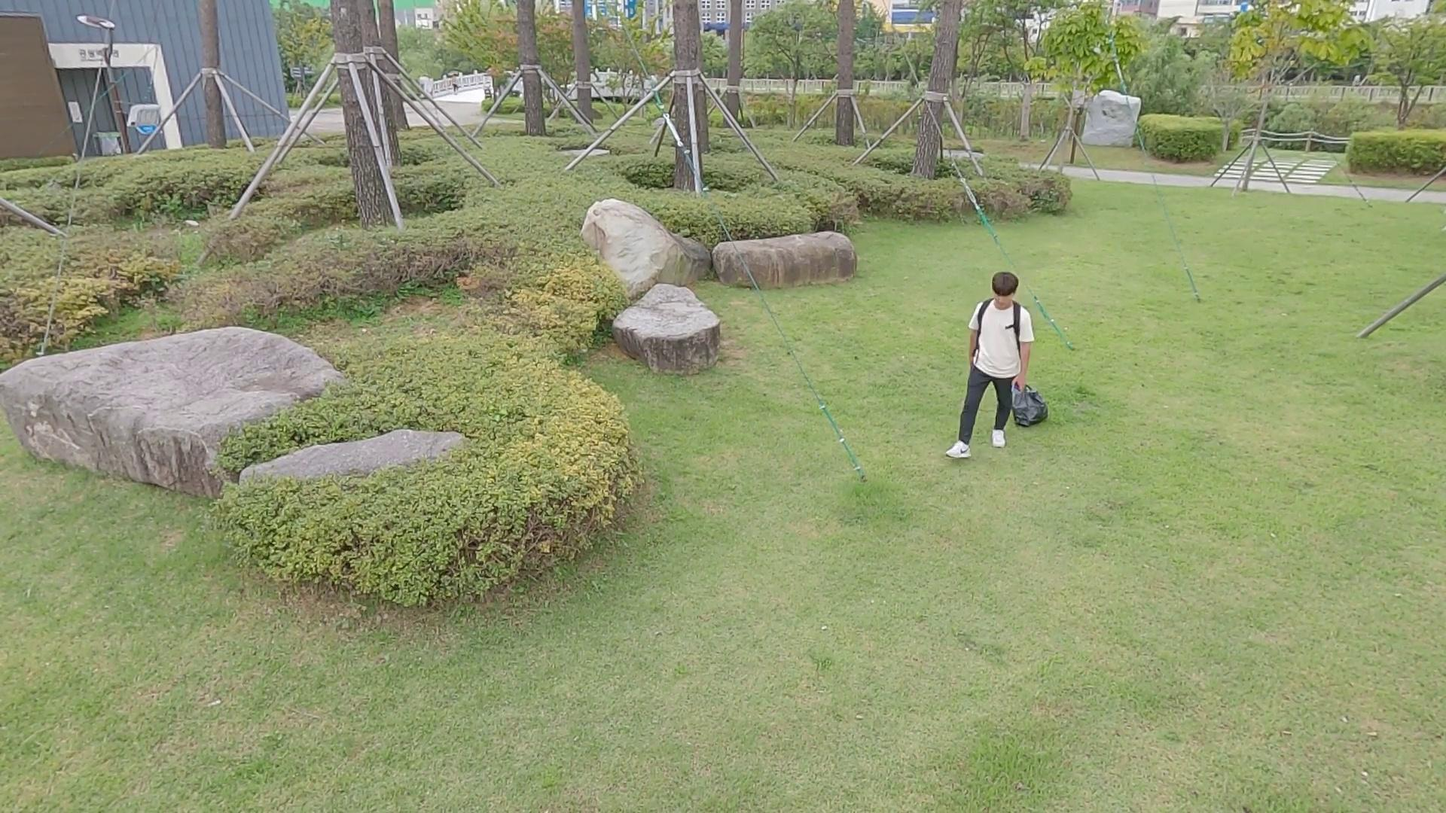person: (951, 269, 1037, 457)
trash: (1009, 388, 1051, 430)
